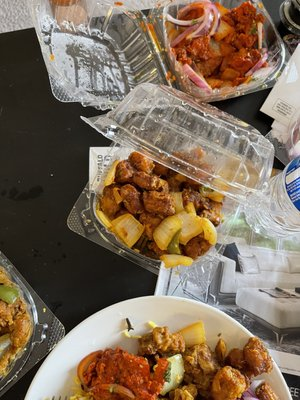sushi: (24, 295, 284, 400)
